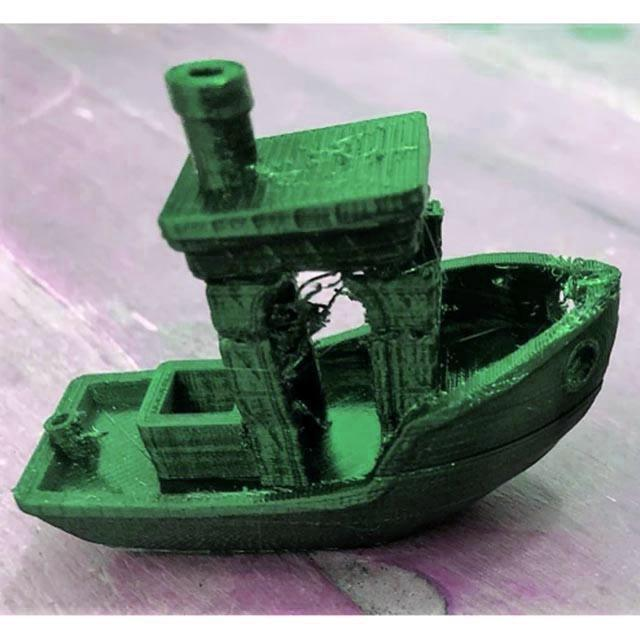spaghetti: (289, 269, 348, 338), (549, 255, 607, 308)
